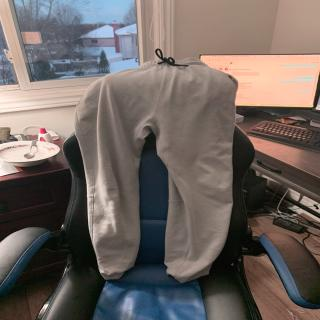White Sweatpants: (73, 57, 240, 281)
